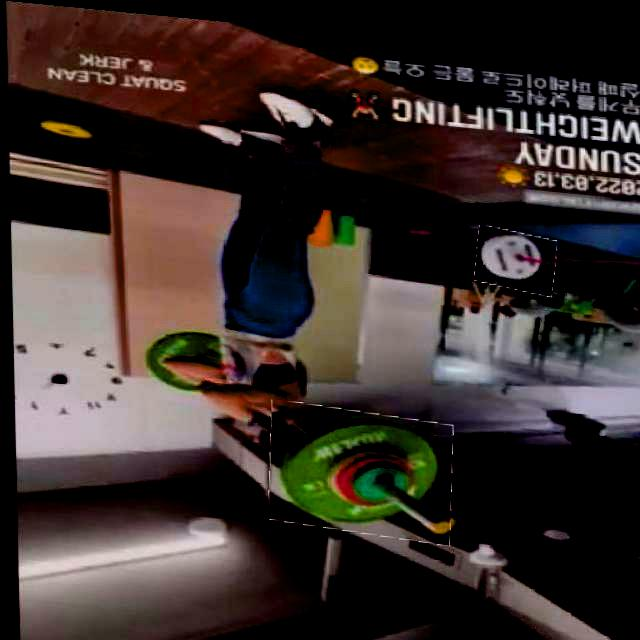barbell: (267, 395, 452, 535), (475, 217, 557, 285)
